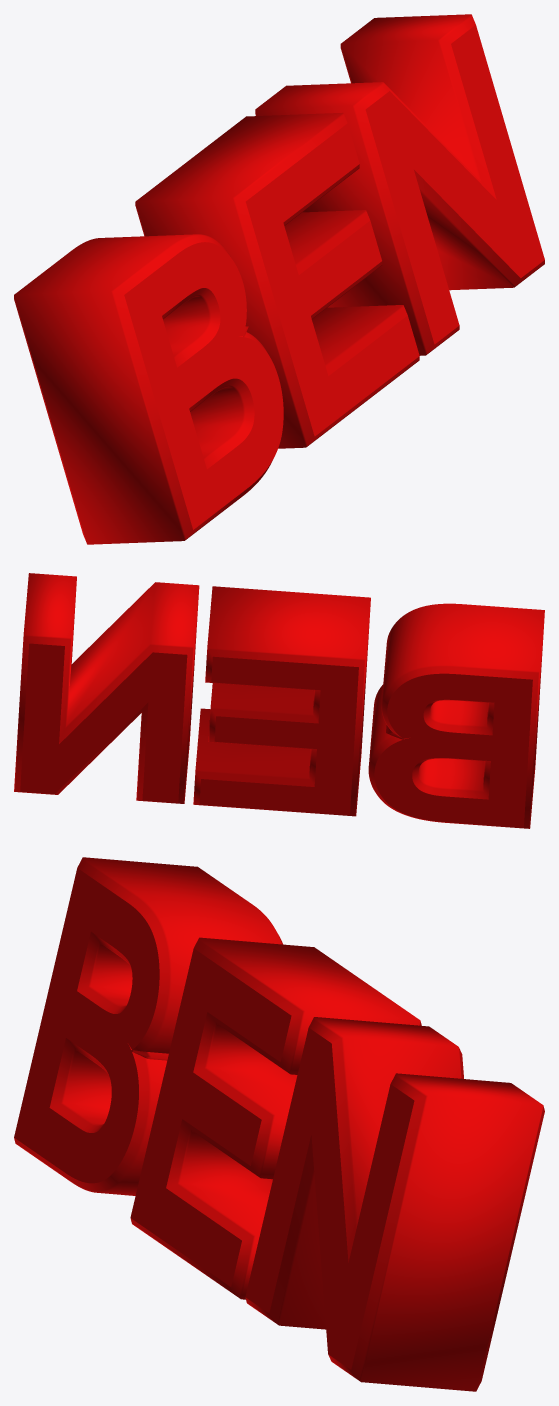
File: Ben.glb
The picture shows the model from 3 angles, top to bottom: view 1: azimuth 30°, elevation 25°; view 2: azimuth 150°, elevation 25°; view 3: azimuth 270°, elevation 25°; orthographic projection. The views are drawn at different scales.
Parts seen in each view (by area): view 1: Text; view 2: Text; view 3: Text.
Boxes of the visible parts, x1,y1,x2,y2 form: Text: (14,14,544,544); Text: (14,573,544,828); Text: (14,857,544,1391).
Size of the model in its own units: 2.59 by 1.25 by 1.78.
